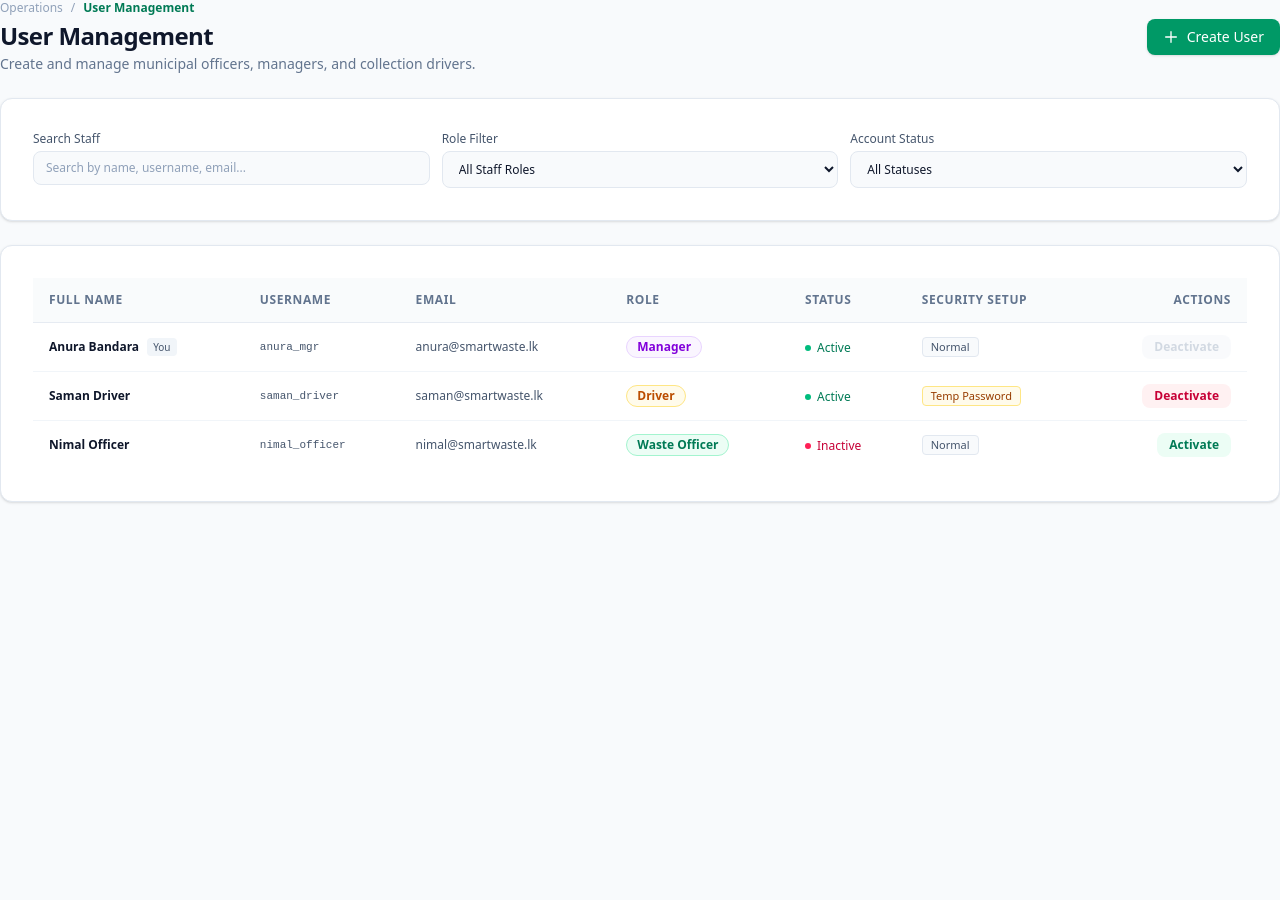
Test: UserManagementPage › opens create modal, verifies Citizen is NOT an option, and creates user with temp password display
The width and height of the screenshot is (1280, 900).
expect the text "Anura Bandara" is shown: met, box [49,338,139,355]
Click the button "Create User".
click(1213, 37)  # box [1147,19,1279,55]
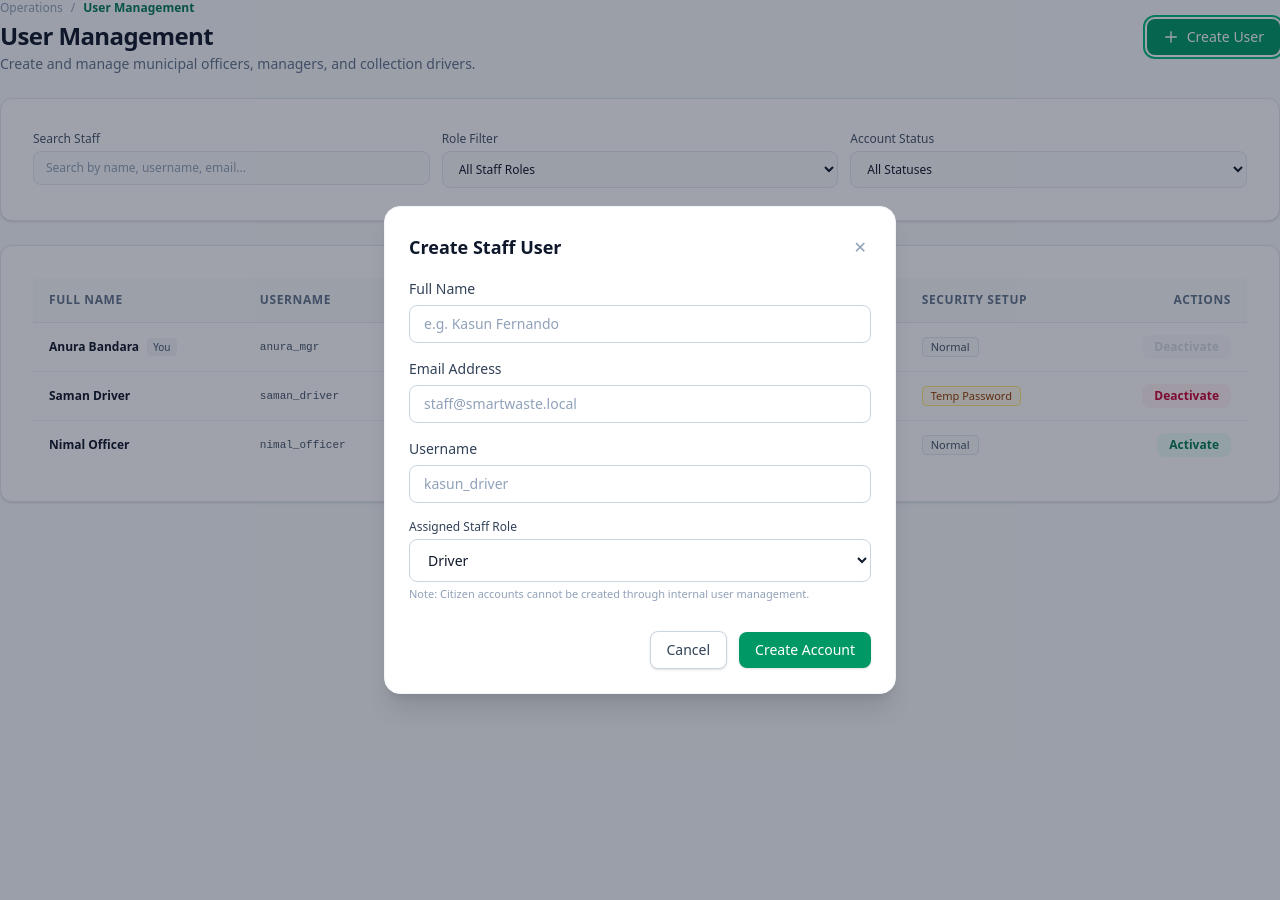
expect the heading "Create Staff User" is shown: met, box [409,233,562,261]
Fill form
Type "Kasun Fernando" into the field labelled "Full Name".
click(640, 324); type("Kasun Fernando")  # box [409,305,871,343]
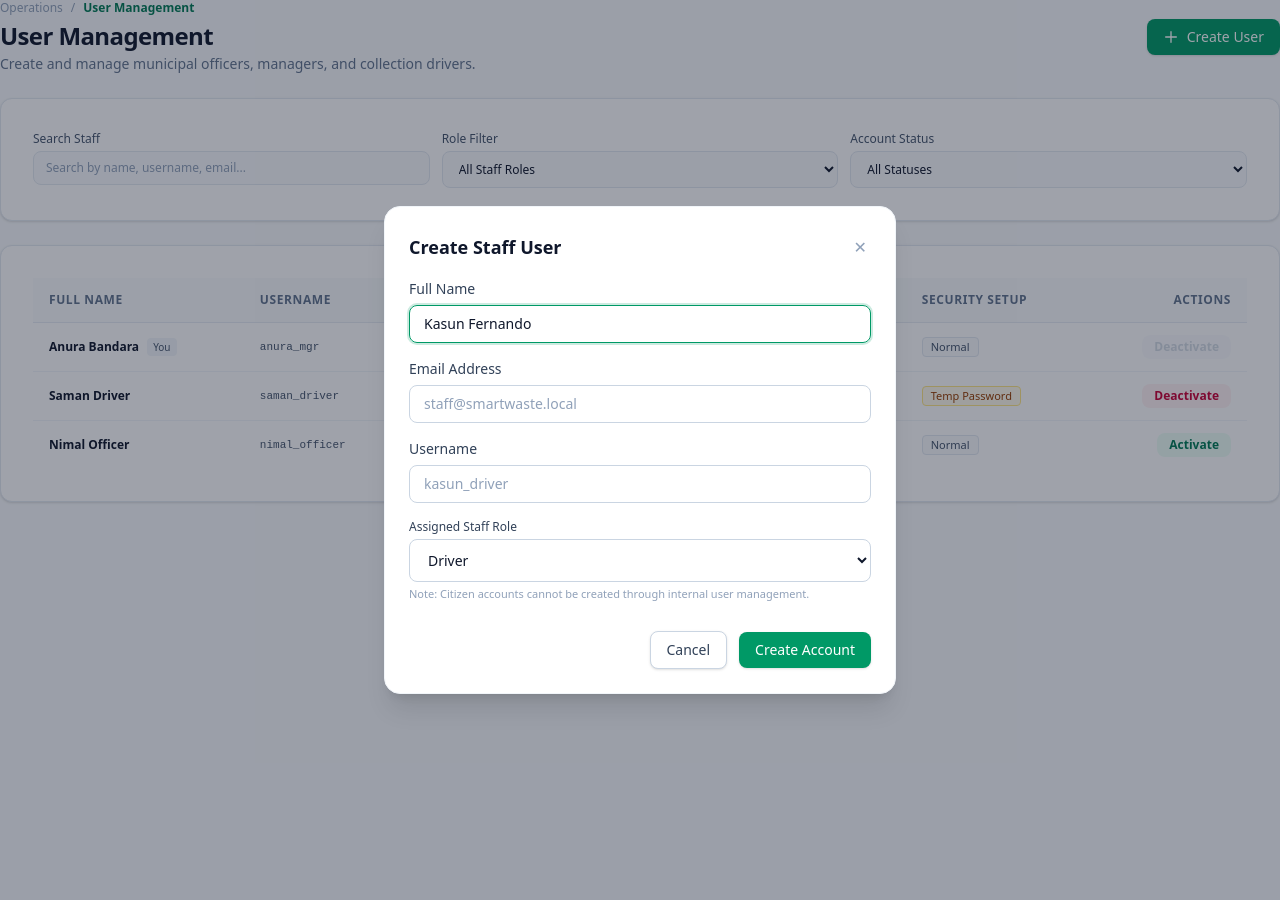
Type "kasun@smartwaste.lk" into the field labelled "Email Address".
click(640, 404); type("kasun@smartwaste.lk")  # box [409,385,871,423]
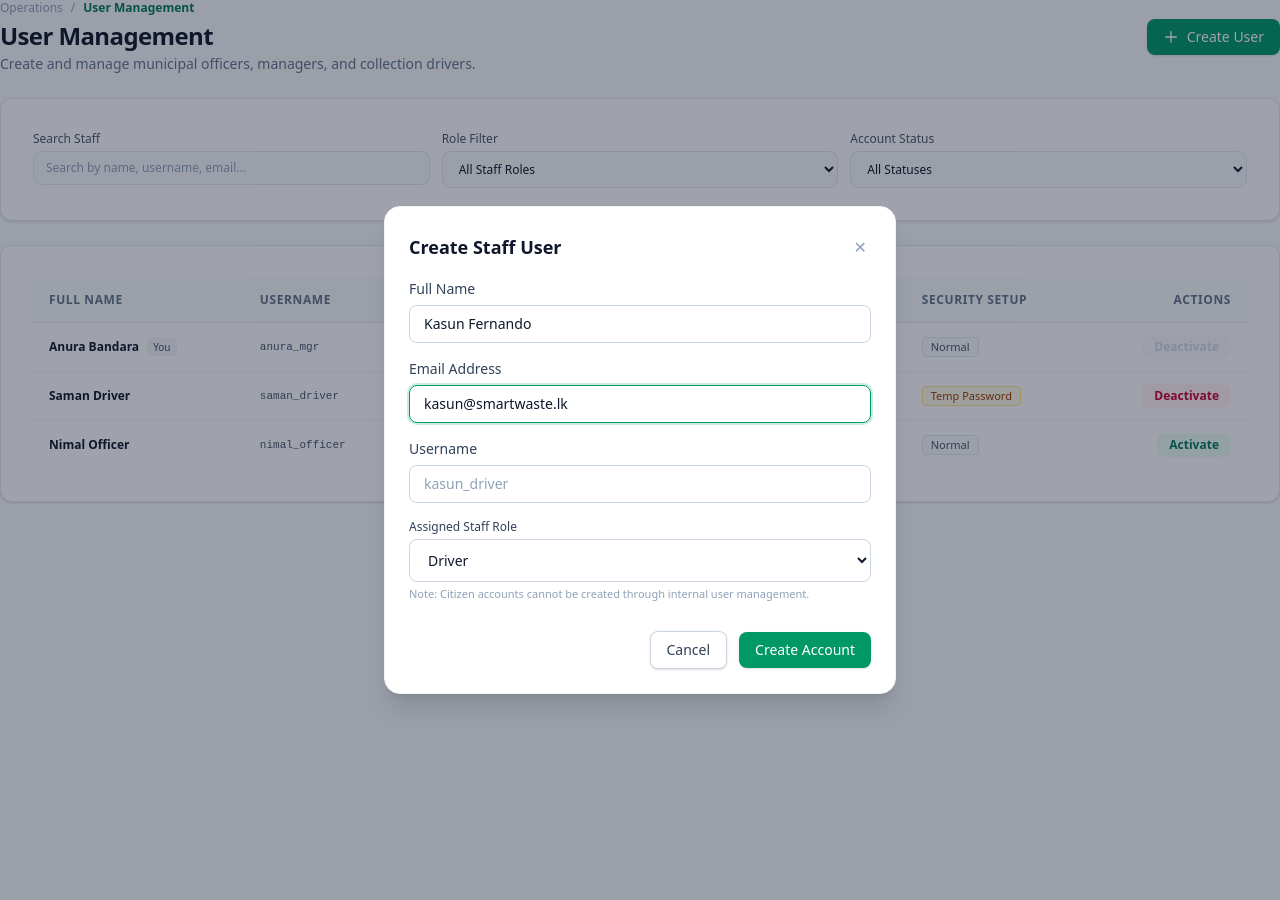
Type "kasun_officer" into the field labelled "Username".
click(640, 484); type("kasun_officer")  # box [409,465,871,503]
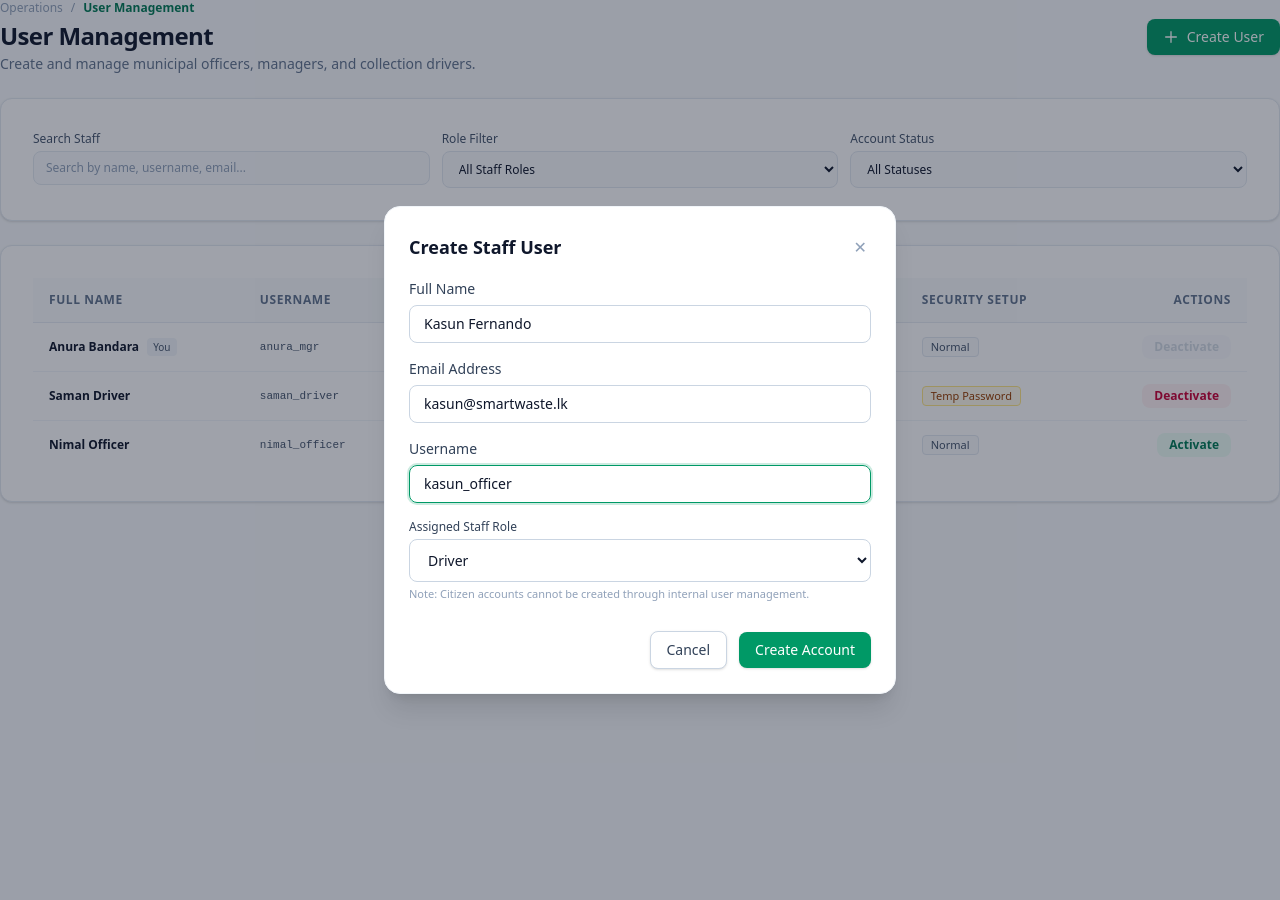
Select "Waste Officer" in the dropdown labelled "Assigned Staff Role" at x=640, y=561, box [409,539,871,582]
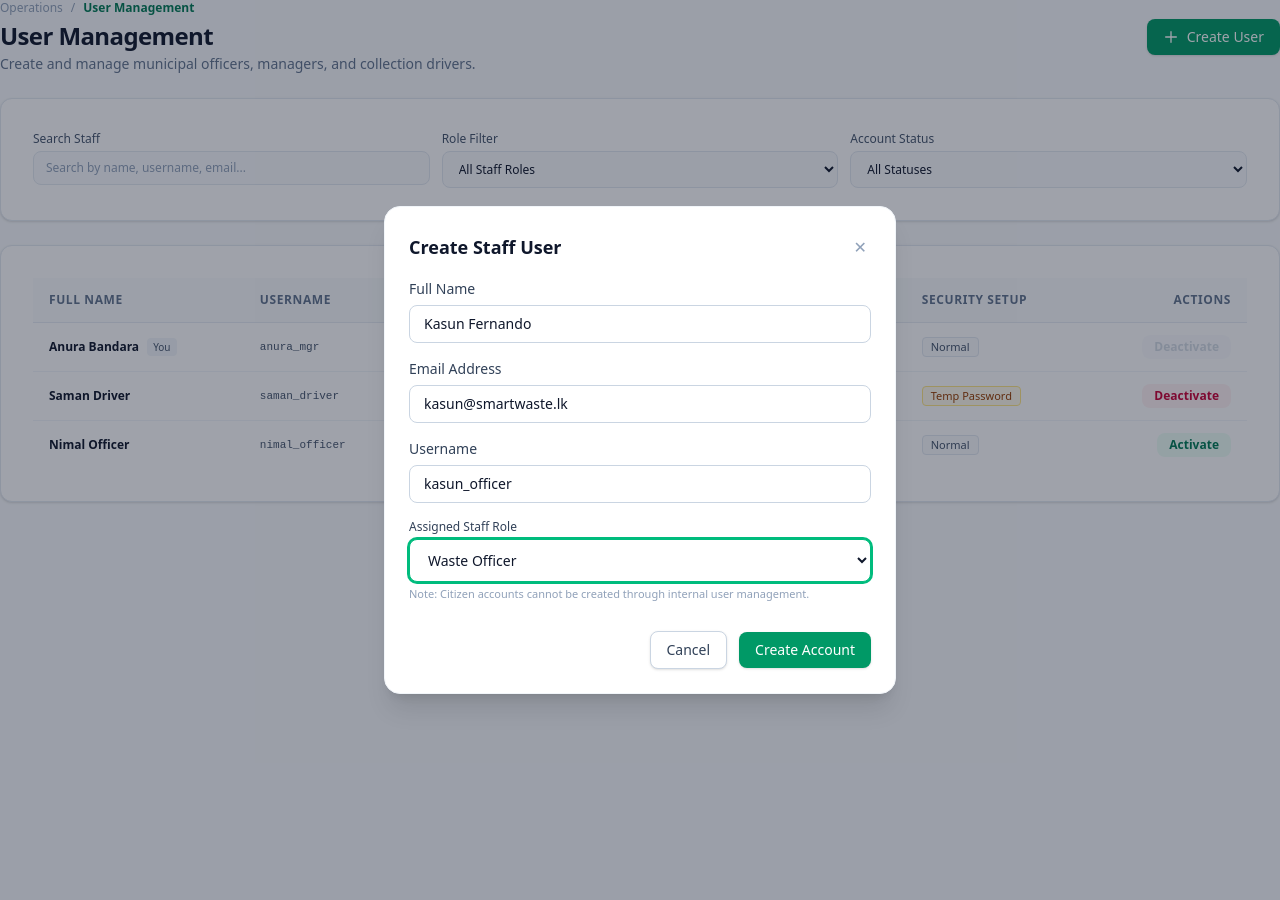
Click the button "Create Account".
click(805, 650)  # box [739,632,871,668]
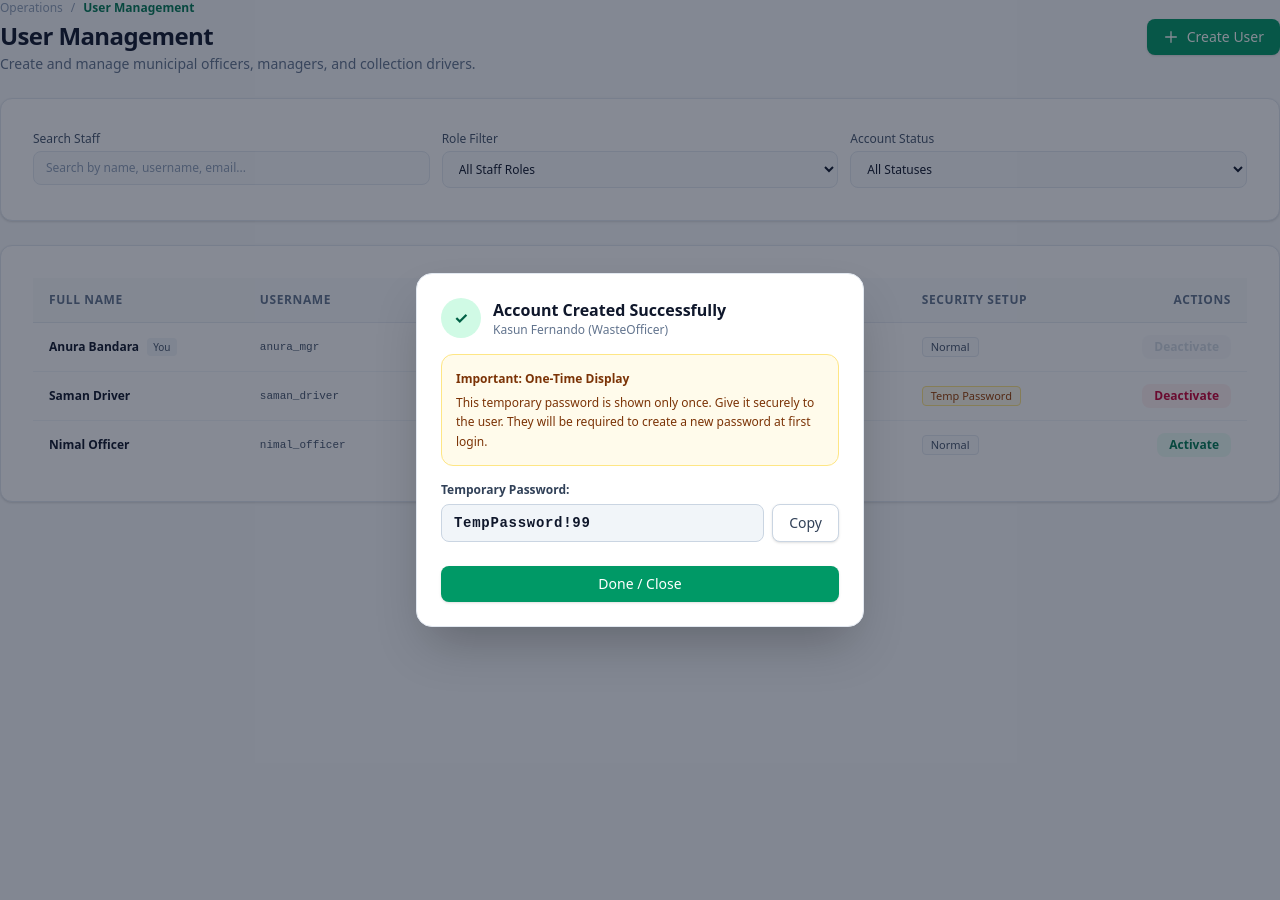
expect the heading "Account Created Successfully" is shown: met, box [493,298,726,322]
expect the text "TempPassword!99" is shown: met, box [441,504,764,542]
expect the button "Copy" is shown: met, box [772,504,839,542]
